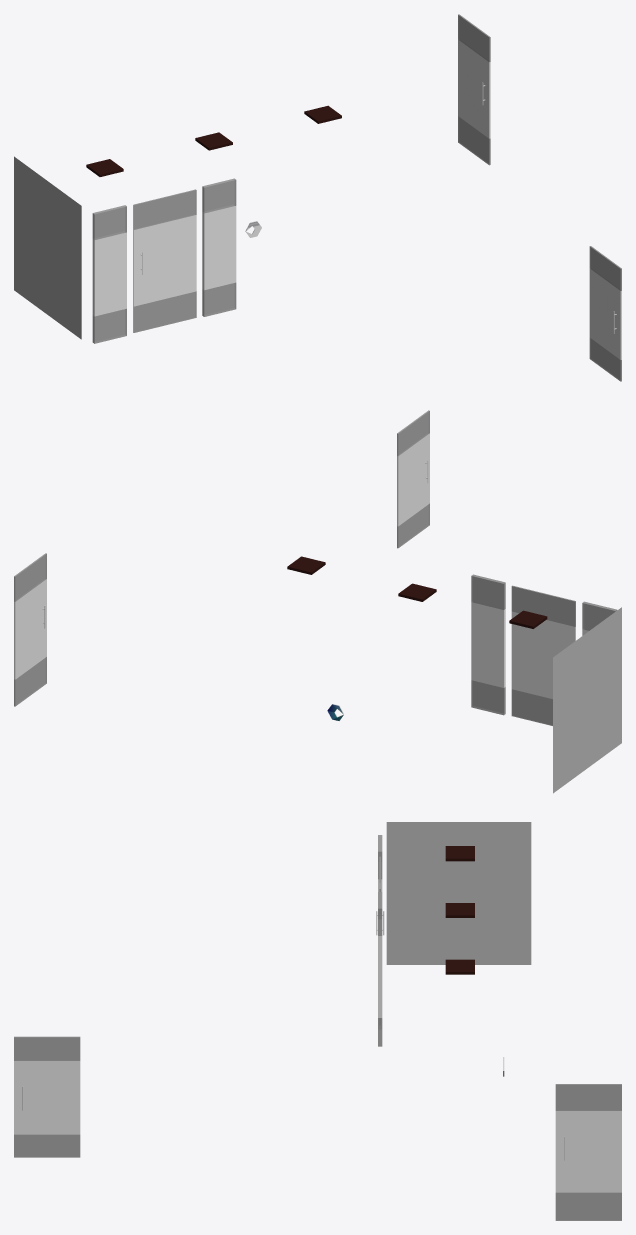
File: rec_new.fbx
3 renders of one model, top to bottom at view 1: azimuth 30°, elevation 25°; view 2: azimuth 150°, elevation 25°; view 3: azimuth 270°, elevation 25°, orthographic. The views are drawn at different scales.
Parts seen in each view (by area): view 1: reception_dposter, reception_animate_door1, l_right_glass, r_right_glass, reception_animate_door4, reception_animate_door3; view 2: reception_dposter, reception_animate_door1, r_right_glass, reception_animate_door4, reception_animate_door3, l_right_glass; view 3: reception_dposter, reception_animate_door4, reception_animate_door3, r_right_glass.
Part boxes in pixels (x1,y1,x2,y2): reception_dposter: [14, 156, 81, 339]; reception_animate_door1: [133, 189, 196, 332]; l_right_glass: [92, 205, 126, 343]; r_right_glass: [202, 178, 236, 316]; reception_animate_door4: [458, 14, 490, 165]; reception_animate_door3: [589, 246, 621, 381]; reception_dposter: [553, 607, 621, 793]; reception_animate_door1: [511, 585, 575, 725]; r_right_glass: [471, 574, 505, 715]; reception_animate_door4: [14, 553, 46, 706]; reception_animate_door3: [397, 410, 429, 548]; l_right_glass: [582, 601, 617, 635]; reception_dposter: [386, 822, 531, 964]; reception_animate_door4: [555, 1084, 621, 1220]; reception_animate_door3: [14, 1036, 80, 1157]; r_right_glass: [378, 892, 382, 1046].
Size of the model in its own units: 1030 by 275 by 1038.
